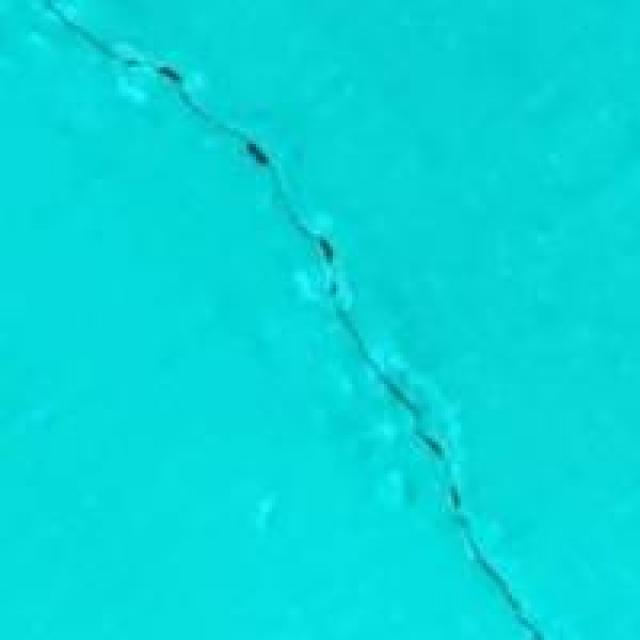Crack: (35, 0, 538, 624)
